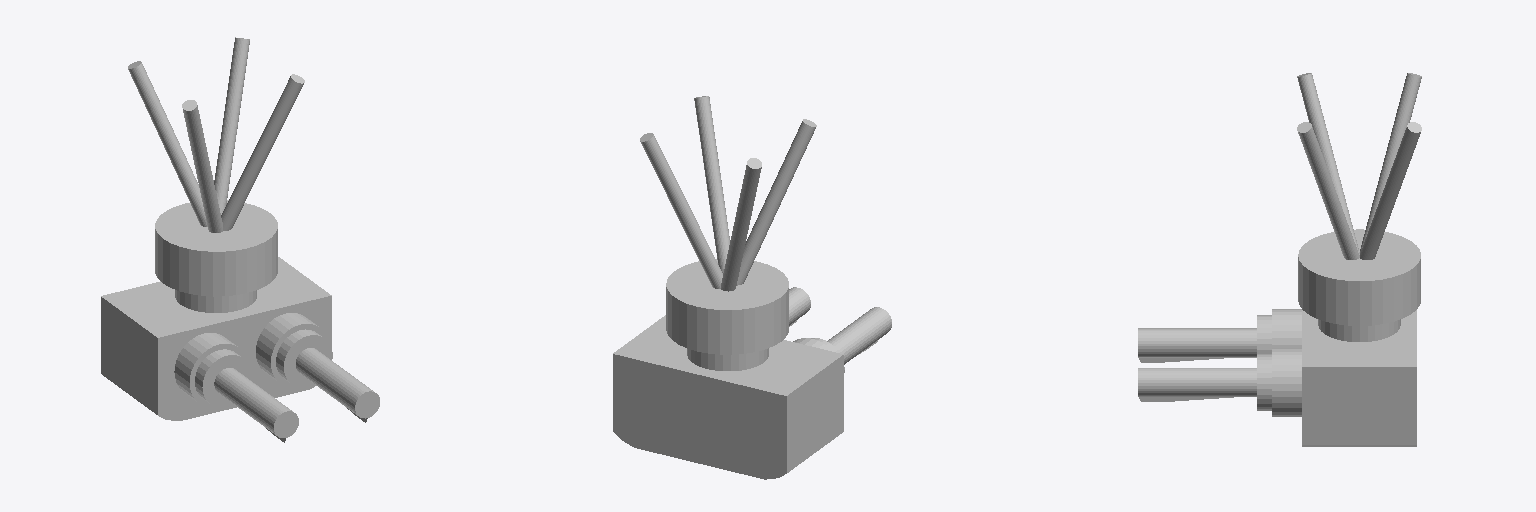
The model's file is Turret.obj.
3 views of the same model, side by side, from view 1: azimuth 30°, elevation 25°; view 2: azimuth 150°, elevation 25°; view 3: azimuth 270°, elevation 25° (orthographic).
Parts seen in each view (by area): view 1: Housing_Cube.001, Barrel_Cylinder.003, Legs_Cylinder.001, RotorBase_Cylinder, Cylinder_Cylinder.002; view 2: Housing_Cube.001, Legs_Cylinder.001, RotorBase_Cylinder, Barrel_Cylinder.003, Cylinder_Cylinder.002; view 3: Housing_Cube.001, Barrel_Cylinder.003, RotorBase_Cylinder, Legs_Cylinder.001, Cylinder_Cylinder.002.
Part boxes in pixels (bbox=[...]): Housing_Cube.001: bbox=[101, 257, 331, 420]; Barrel_Cylinder.003: bbox=[174, 313, 379, 442]; Legs_Cylinder.001: bbox=[128, 37, 304, 232]; RotorBase_Cylinder: bbox=[155, 200, 277, 296]; Cylinder_Cylinder.002: bbox=[175, 290, 256, 312]; Housing_Cube.001: bbox=[613, 315, 843, 479]; Legs_Cylinder.001: bbox=[640, 96, 816, 291]; RotorBase_Cylinder: bbox=[666, 259, 788, 354]; Barrel_Cylinder.003: bbox=[789, 287, 891, 372]; Cylinder_Cylinder.002: bbox=[687, 348, 768, 370]; Housing_Cube.001: bbox=[1302, 310, 1416, 446]; Barrel_Cylinder.003: bbox=[1138, 309, 1301, 416]; RotorBase_Cylinder: bbox=[1298, 229, 1420, 325]; Legs_Cylinder.001: bbox=[1297, 73, 1421, 259]; Cylinder_Cylinder.002: bbox=[1318, 319, 1400, 341].
Size of the model in its own units: 2 by 3.46 by 2.83.